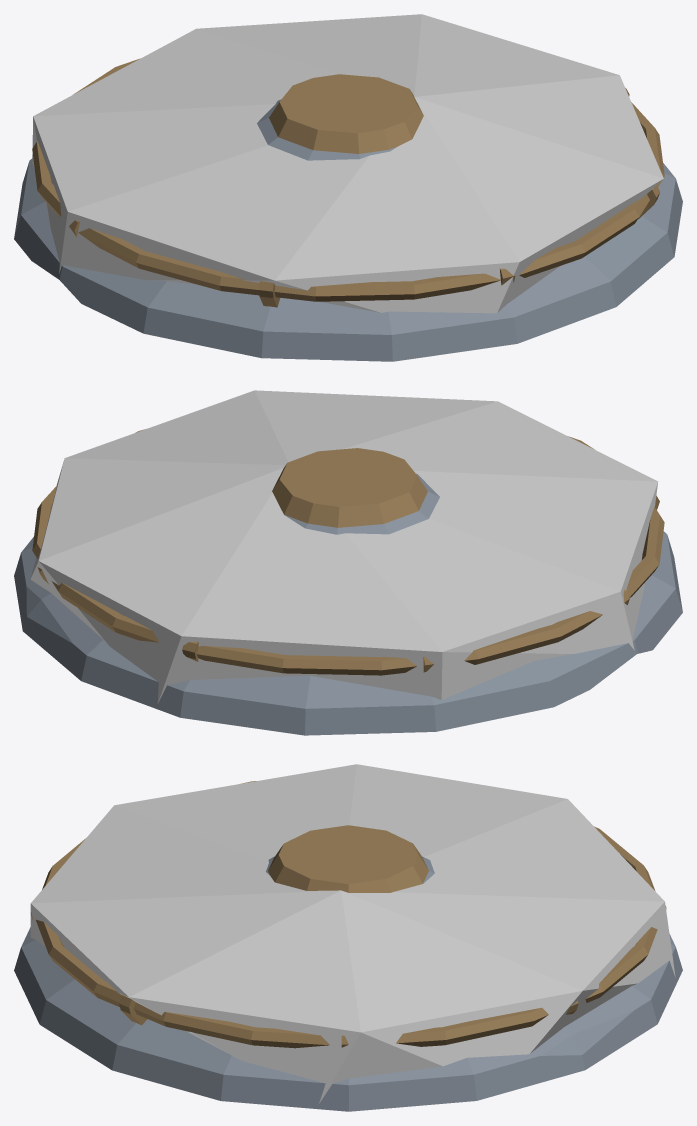
The model's file is SM_Prop_Telescope_Base_01.fbx.
The picture shows the model from 3 angles, top to bottom: view 1: azimuth 30°, elevation 25°; view 2: azimuth 150°, elevation 25°; view 3: azimuth 270°, elevation 25°; orthographic projection.
Visible parts, largest first — view 1: SM_Prop_Telescope_Base_01_ConvexHulls, SM_Prop_Telescope_Base_01; view 2: SM_Prop_Telescope_Base_01_ConvexHulls, SM_Prop_Telescope_Base_01; view 3: SM_Prop_Telescope_Base_01_ConvexHulls, SM_Prop_Telescope_Base_01.
Boxes of the visible parts, x1=… form: SM_Prop_Telescope_Base_01_ConvexHulls: x1=32, y1=14, x2=663, y2=313; SM_Prop_Telescope_Base_01: x1=14, y1=58, x2=682, y2=361; SM_Prop_Telescope_Base_01_ConvexHulls: x1=30, y1=390, x2=658, y2=703; SM_Prop_Telescope_Base_01: x1=14, y1=429, x2=682, y2=735; SM_Prop_Telescope_Base_01_ConvexHulls: x1=30, y1=764, x2=675, y2=1103; SM_Prop_Telescope_Base_01: x1=14, y1=781, x2=682, y2=1111.
Size of the model in its own units: 280 by 281 by 53.63.
Materials: 2 (1 with a texture image).
